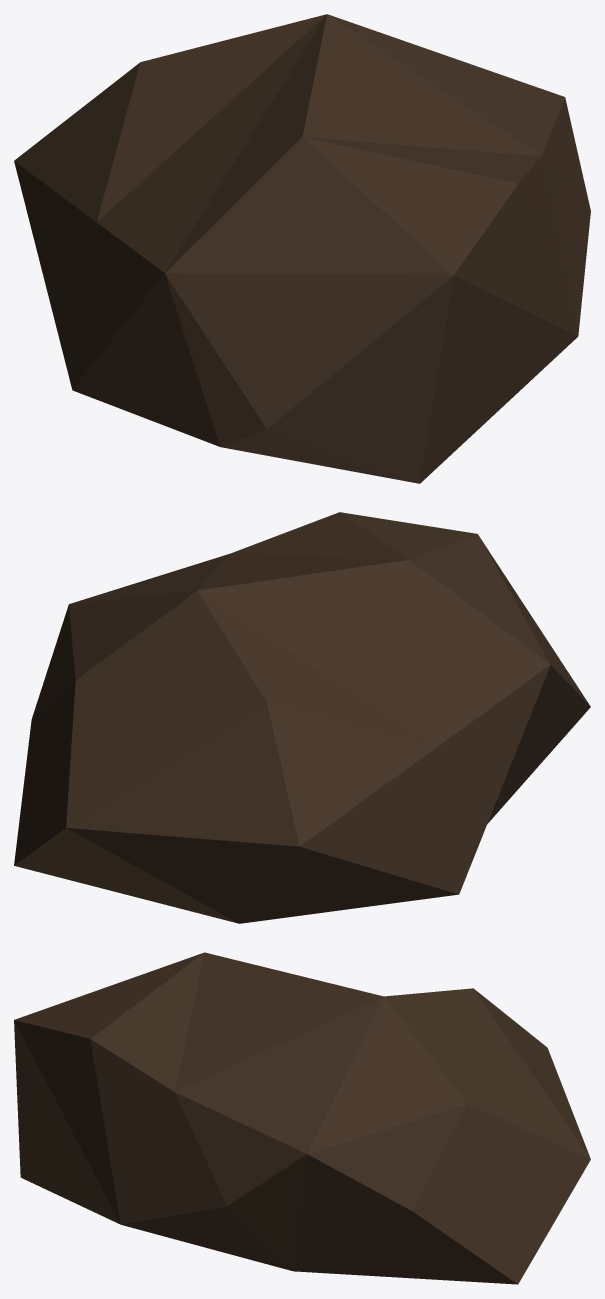
File: Rock_3_Dark_Brown.fbx
3 views of the same model, one above another, from view 1: azimuth 30°, elevation 25°; view 2: azimuth 150°, elevation 25°; view 3: azimuth 270°, elevation 25° (orthographic). The views are drawn at different scales.
Parts seen in each view (by area): view 1: Rock_3_Dark_Brown; view 2: Rock_3_Dark_Brown; view 3: Rock_3_Dark_Brown.
Boxes of the visible parts, box(x1,y1,x2,y2) form: Rock_3_Dark_Brown: box(14, 14, 590, 483); Rock_3_Dark_Brown: box(14, 512, 590, 923); Rock_3_Dark_Brown: box(14, 952, 590, 1284).
Size of the model in its own units: 284 by 183 by 360.
